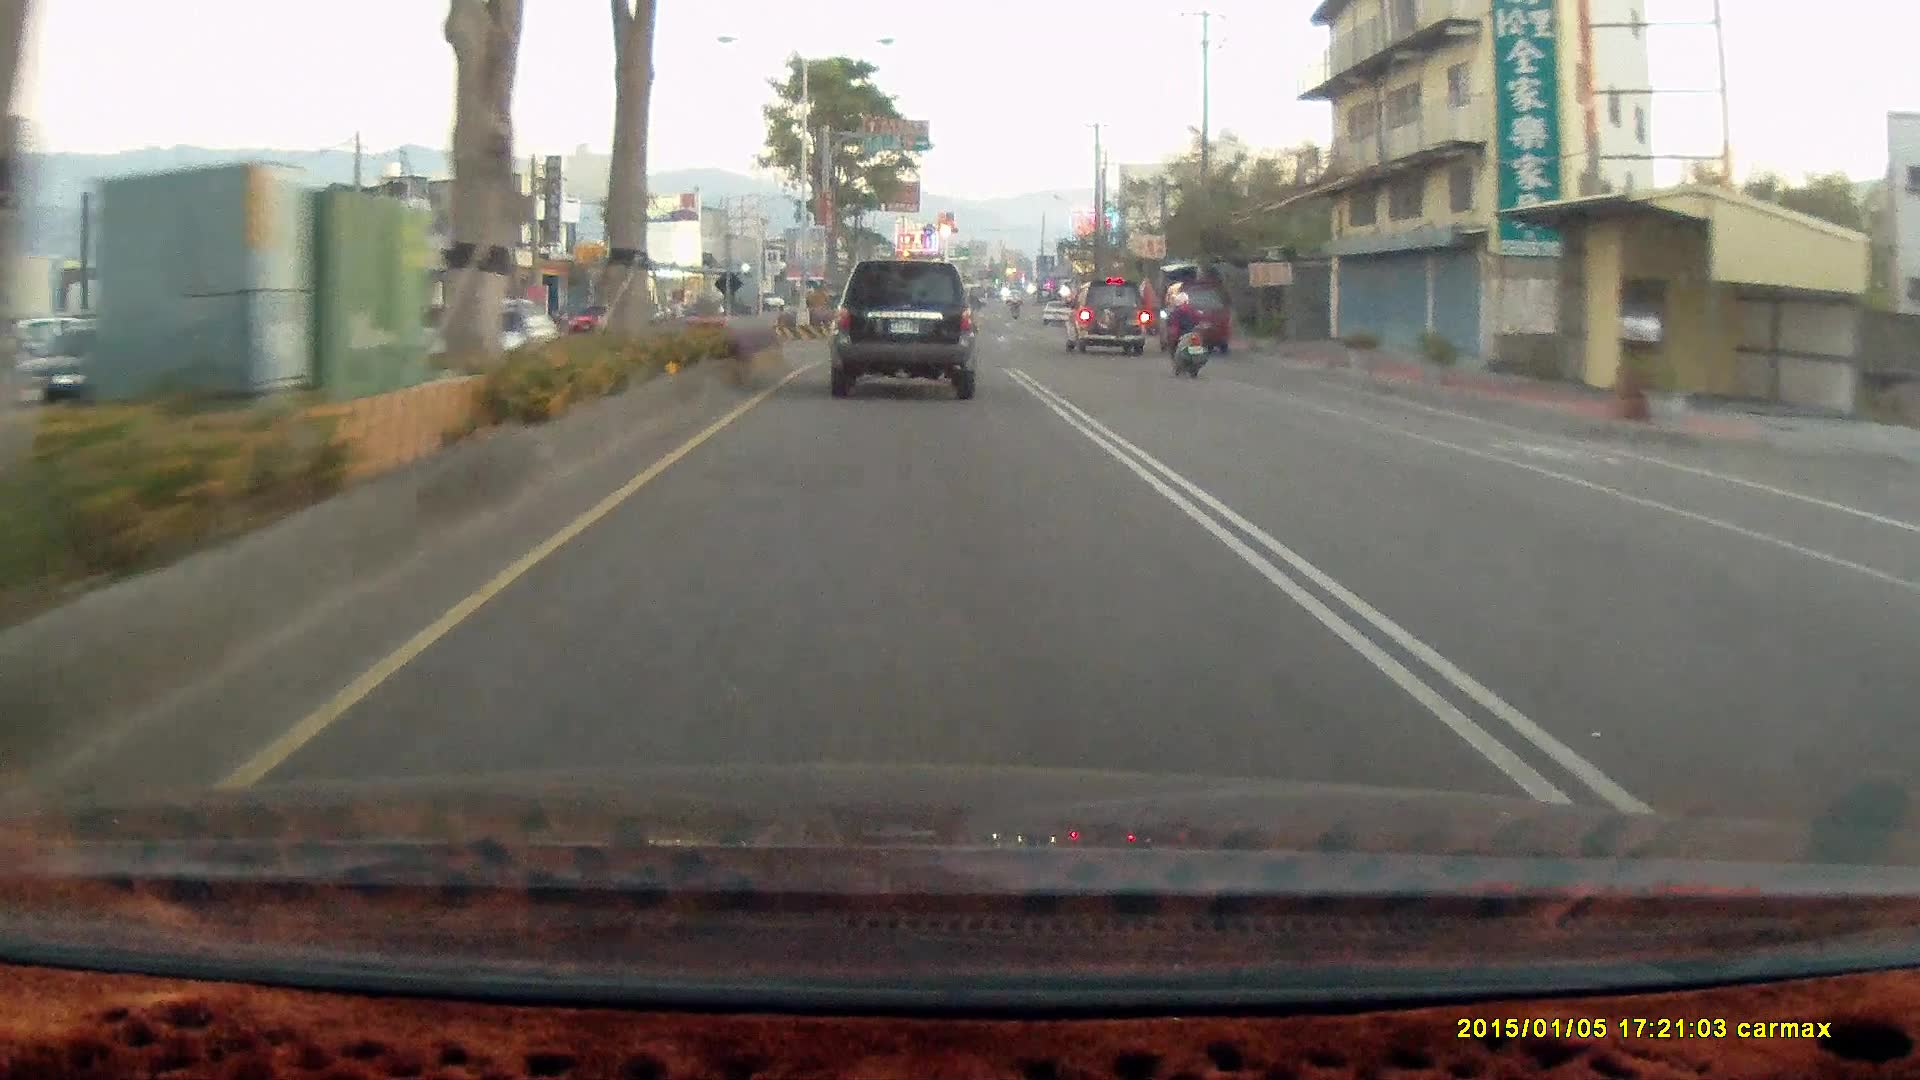rider: (1152, 282, 1218, 387), (1154, 289, 1204, 378)
vehicle: (831, 256, 986, 398), (828, 260, 981, 399), (1069, 278, 1158, 357), (1059, 278, 1147, 354), (1159, 281, 1235, 360), (1158, 279, 1231, 353)
